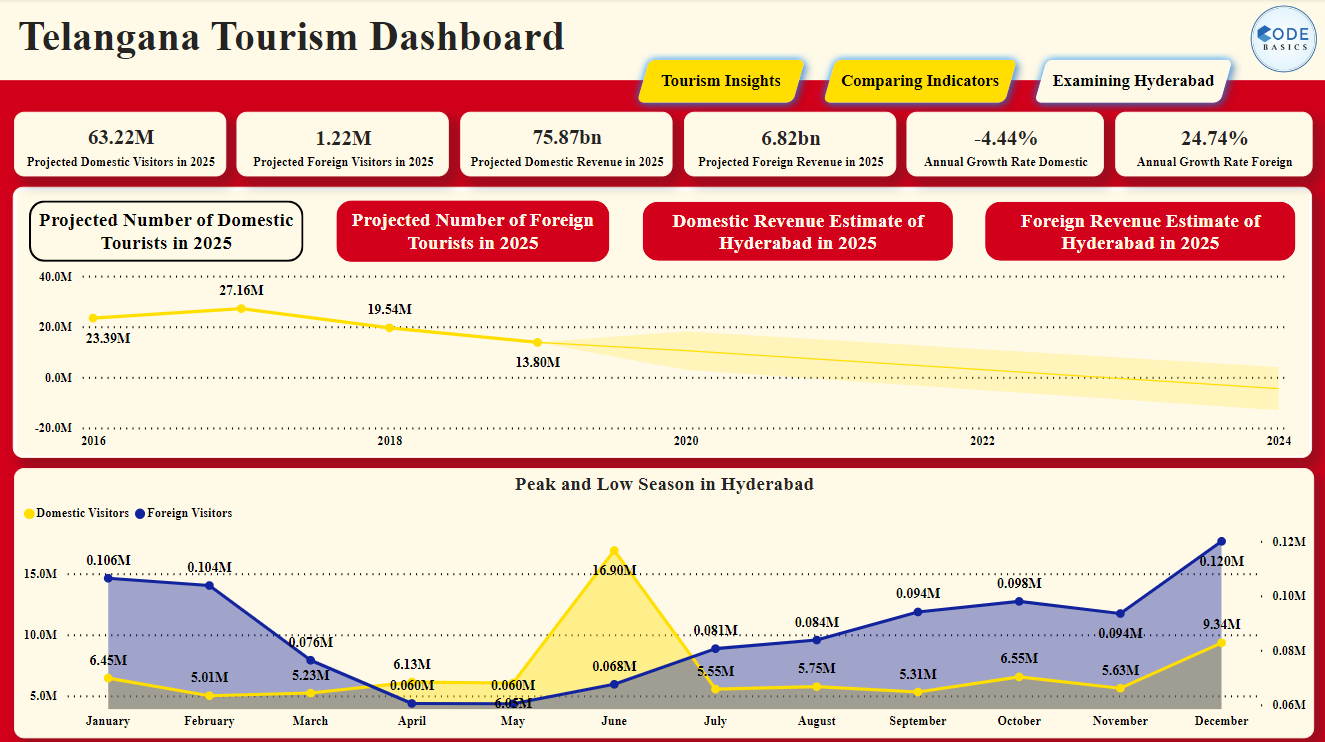

What the dashboard file says about the page in this screenshot:
{"tool":"powerbi","page":{"name":"Examining Hyderabad","canvas":[1280,720],"ordinal":2},"visuals":[{"type":"shape","box":[0,0,1280,79.6],"z":0},{"type":"lineChart","fields":{"Y":["Sum(Final Data.domestic_visitors)"],"Category":["Final Data.year"]},"box":[29.4,254.6,1222.5,187],"z":0,"group":"g1"},{"type":"shape","box":[13.9,181.8,1253.7,261.5],"z":1000},{"type":"actionButton","box":[621,197.4,299.6,57.1],"z":1000,"group":"g1"},{"type":"actionButton","box":[606.5,50.8,179.8,59],"z":2000},{"type":"actionButton","box":[952.4,197.4,299.6,57.1],"z":2000,"group":"g1"},{"type":"actionButton","box":[786.3,50.8,204.5,59],"z":3000},{"type":"actionButton","box":[326.1,195.7,263.2,58.9],"z":3000,"group":"g1"},{"type":"actionButton","box":[990.7,50.8,208.6,59],"z":4000},{"type":"actionButton","box":[29.4,195.7,264.9,58.9],"z":4000,"group":"g1"},{"type":"group","id":"g1","title":"Domestic Tourists","box":[29.4,195.7,1222.5,245.9],"z":5000},{"type":"image","box":[1199.3,0,81,78.2],"z":9000},{"type":"textbox","title":"Telangana Tourism Dashboard","box":[13.7,13.7,539.3,50.8],"z":10000},{"type":"areaChart","title":"Peak and Low Season in Hyderabad","fields":{"Category":["Final Data.date.Variation.Date Hierarchy.Month"],"Y":["Sum(Final Data.domestic_visitors)"],"Y2":["Sum(Final Data.foreign_visitors)"]},"box":[14,453,1254,261],"z":11000},{"type":"card","fields":{"Values":["Key Measures.Projected Domestic Visitors in 2025"]},"box":[14.1,109.9,205,62],"z":12000},{"type":"card","fields":{"Values":["Key Measures.Projected Foreign Visitors in 2025"]},"box":[229.7,109.9,205,62.6],"z":13000},{"type":"card","fields":{"Values":["Key Measures.Projected Domestic Revenue in 2025"]},"box":[445.4,109.9,205,62],"z":14000},{"type":"card","fields":{"Values":["Key Measures.Projected Foreign Revenue in 2025"]},"box":[661,109.9,204.4,62.6],"z":15000},{"type":"card","fields":{"Values":["Key Measures.Annual Growth Rate Domestic"]},"box":[876.1,109.9,190.4,62.6],"z":16000},{"type":"card","fields":{"Values":["Key Measures.Annual Growth Rate Foreign"]},"box":[1077.1,109.9,190.4,62.6],"z":16001}]}

Visuals, with their boxes in screenshot pixels (x1, y1, x2, y2), scaled from the page's 1280x720 canvas onto the 1325x742 screenshot:
shape: detection(0, 0, 1324, 82)
lineChart - Sum(Final Data.domestic_visitors) x Final Data.year: detection(30, 262, 1296, 455)
shape: detection(14, 187, 1312, 457)
actionButton: detection(643, 203, 953, 262)
actionButton: detection(628, 52, 814, 113)
actionButton: detection(986, 203, 1296, 262)
actionButton: detection(814, 52, 1026, 113)
actionButton: detection(338, 202, 610, 262)
actionButton: detection(1026, 52, 1241, 113)
actionButton: detection(30, 202, 305, 262)
"Domestic Tourists" group: detection(30, 202, 1296, 455)
image: detection(1241, 0, 1324, 81)
"Telangana Tourism Dashboard" textbox: detection(14, 14, 572, 66)
"Peak and Low Season in Hyderabad" areaChart: detection(14, 467, 1313, 736)
card - Key Measures.Projected Domestic Visitors in 2025: detection(15, 113, 227, 177)
card - Key Measures.Projected Foreign Visitors in 2025: detection(238, 113, 450, 178)
card - Key Measures.Projected Domestic Revenue in 2025: detection(461, 113, 673, 177)
card - Key Measures.Projected Foreign Revenue in 2025: detection(684, 113, 896, 178)
card - Key Measures.Annual Growth Rate Domestic: detection(907, 113, 1104, 178)
card - Key Measures.Annual Growth Rate Foreign: detection(1115, 113, 1312, 178)
